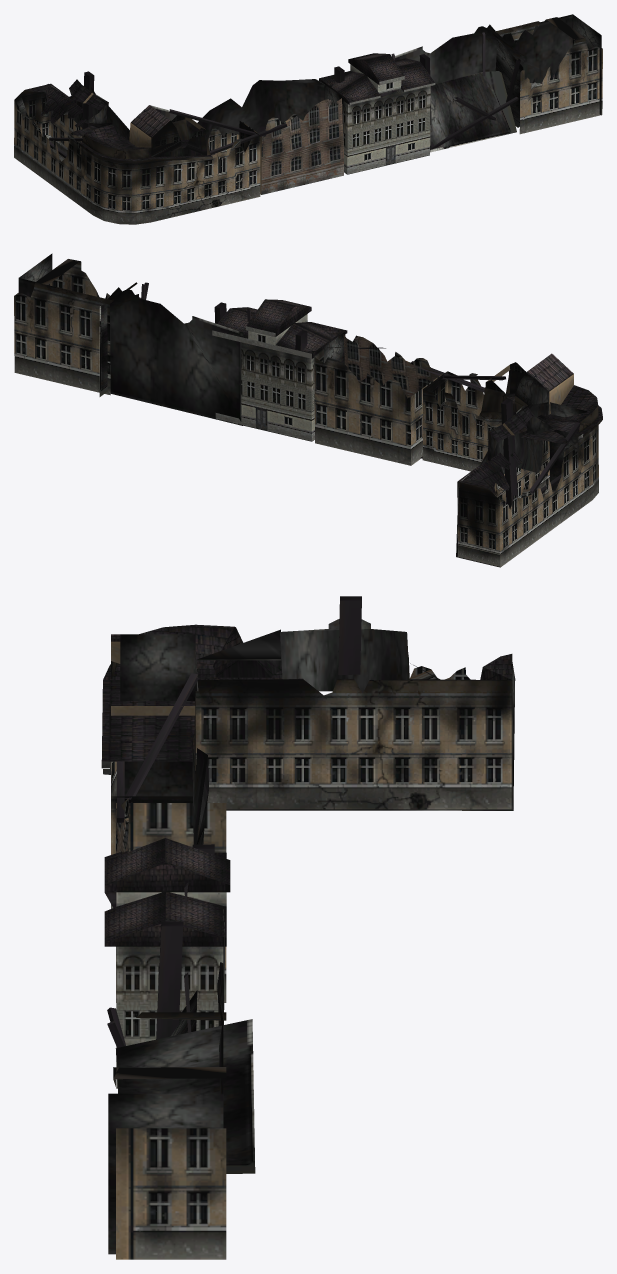
The model's file is Ruin_CityBlock_02.fbx.
3 renders of one model, top to bottom at view 1: azimuth 30°, elevation 25°; view 2: azimuth 150°, elevation 25°; view 3: azimuth 270°, elevation 25°, orthographic. The views are drawn at different scales.
Parts seen in each view (by area): view 1: Ruin_CityBlock_02_Part0_destroyed_cityblock01b; view 2: Ruin_CityBlock_02_Part0_destroyed_cityblock01b; view 3: Ruin_CityBlock_02_Part0_destroyed_cityblock01b.
Part boxes in pixels (x1,y1,x2,y2): Ruin_CityBlock_02_Part0_destroyed_cityblock01b: (14, 14, 602, 224); Ruin_CityBlock_02_Part0_destroyed_cityblock01b: (14, 253, 602, 567); Ruin_CityBlock_02_Part0_destroyed_cityblock01b: (101, 596, 515, 1259).
Bounding box in the file's own units: 4.67 × 1.01 × 1.7.
